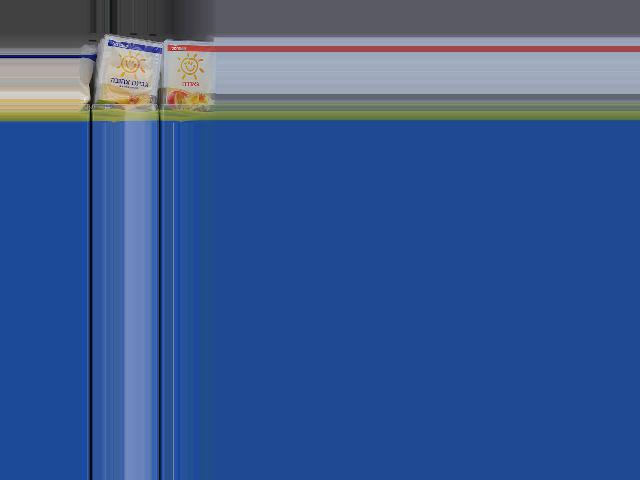cheese: (162, 35, 217, 121)
